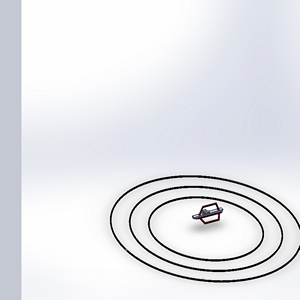circle: (102, 168, 300, 287)
submarine: (190, 200, 227, 239)
